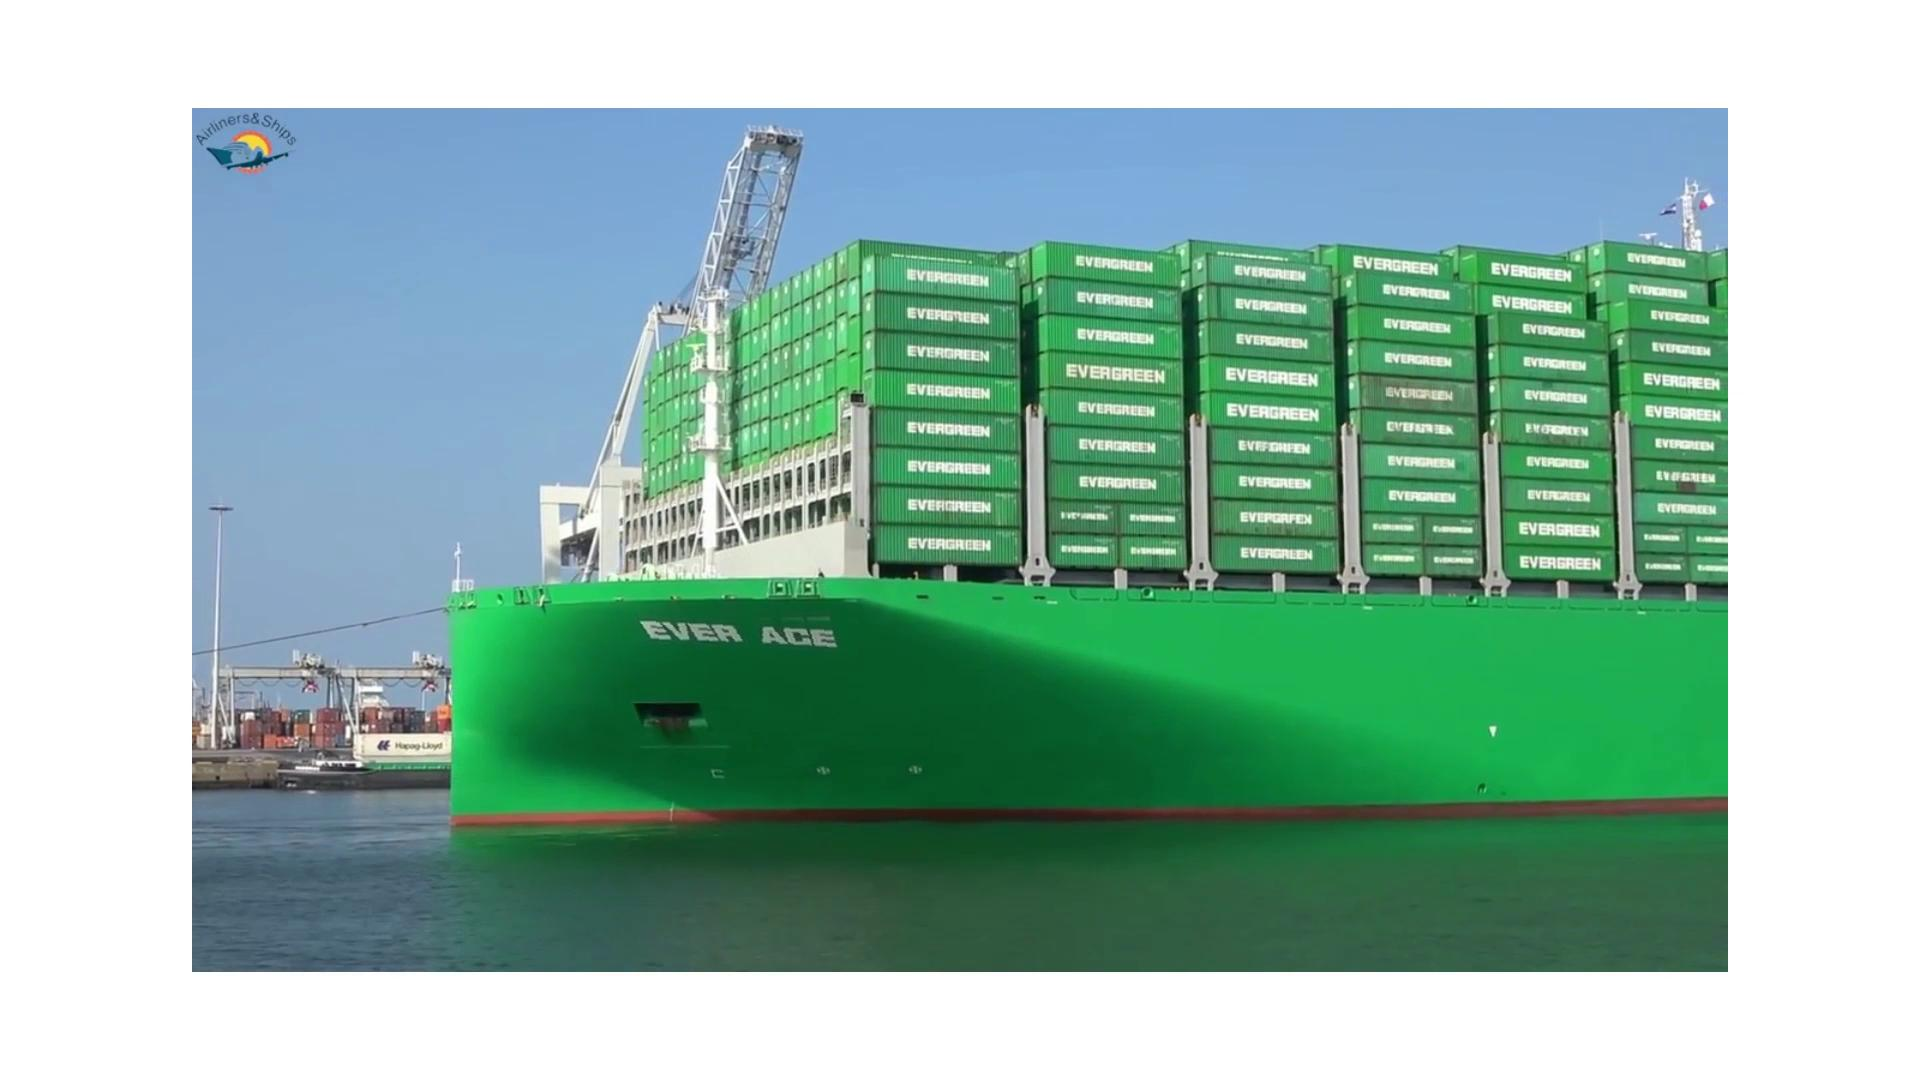OCR: (611, 604, 858, 662)
